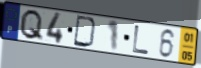1: (106, 20, 119, 53)
4: (45, 11, 65, 45)
6: (159, 28, 175, 59)
D: (72, 14, 99, 50)
L: (131, 24, 151, 57)
Q: (18, 8, 44, 43)
